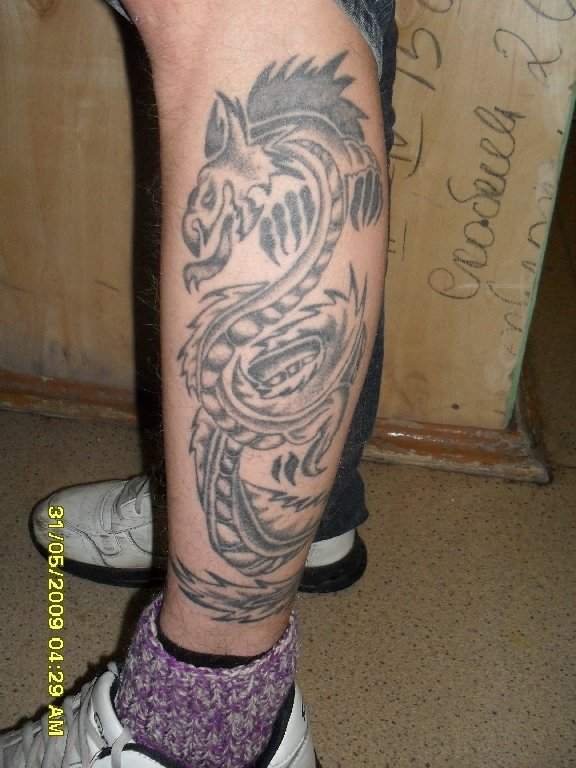tatu6_drakon: (126, 41, 384, 633)
